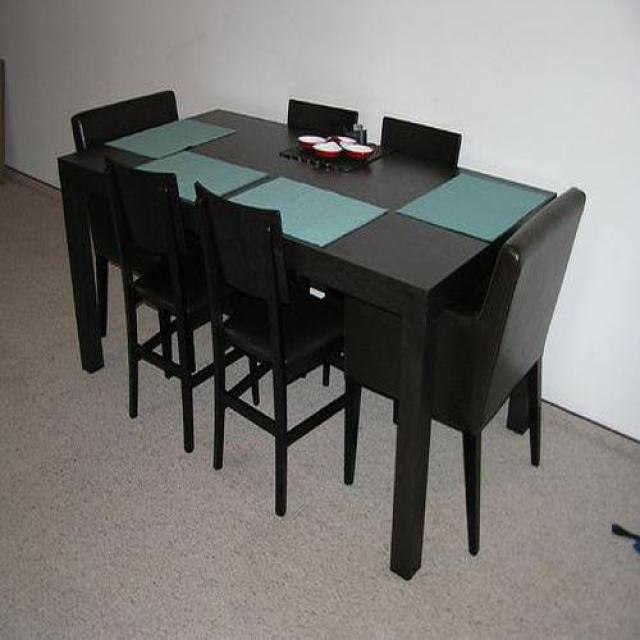table: (58, 110, 554, 581)
